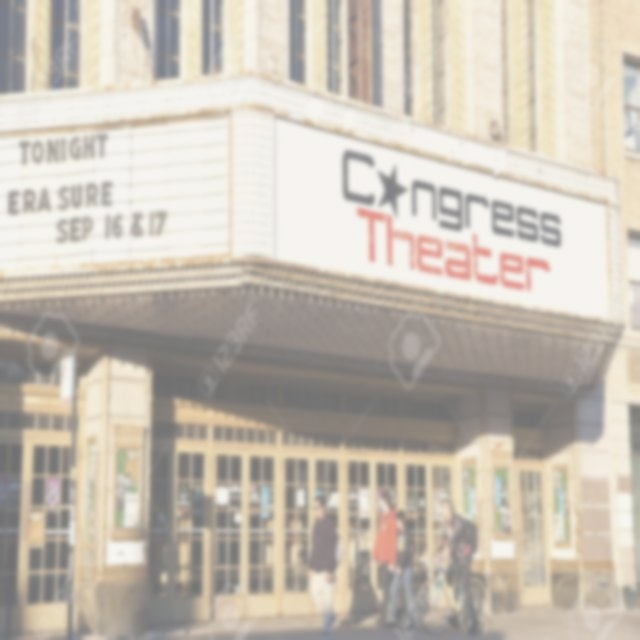pessoa: (432, 497, 481, 638), (306, 494, 338, 640), (371, 490, 403, 628), (384, 508, 419, 634)
